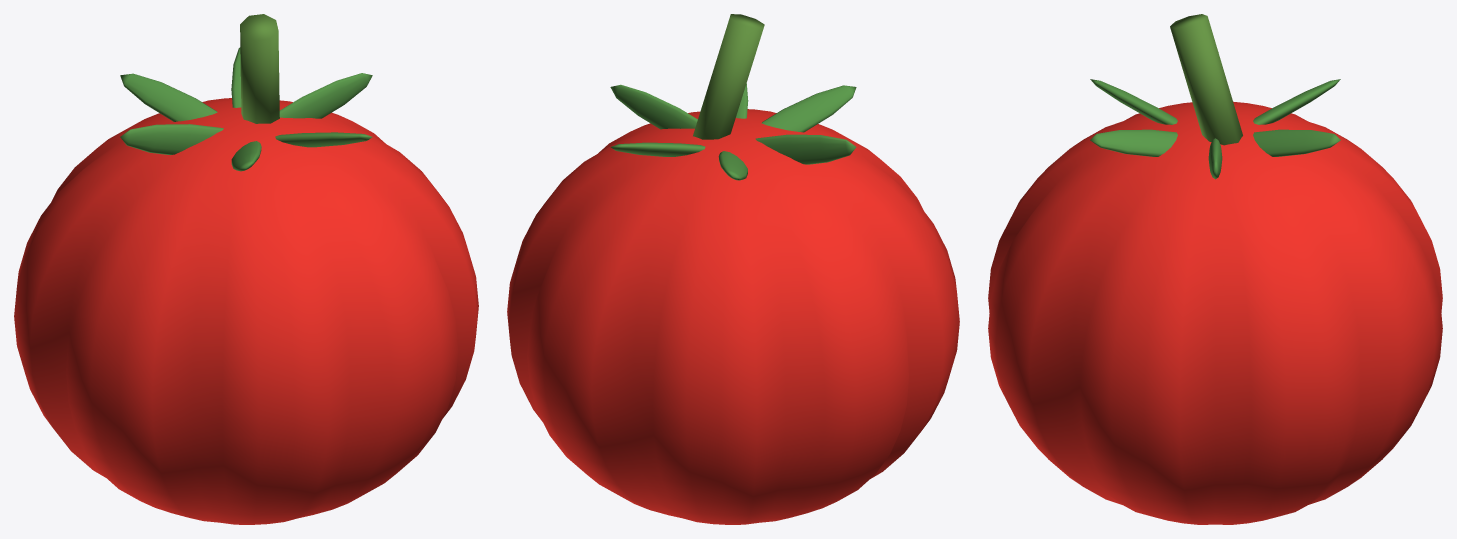
The model's file is tomato_lite_ripe.glb.
The picture shows the model from 3 angles, left to right: view 1: azimuth 30°, elevation 25°; view 2: azimuth 150°, elevation 25°; view 3: azimuth 270°, elevation 25°; orthographic projection. The views are drawn at different scales.
Parts seen in each view (by area): view 1: grooved_tomato_body, stem, sepal.002, sepal.003, sepal, sepal.005, sepal.004; view 2: grooved_tomato_body, stem, sepal.004, sepal.003, sepal, sepal.001, sepal.002; view 3: grooved_tomato_body, stem, sepal.005, sepal.001, sepal.002, sepal.004.
Boxes of the visible parts, x1,y1,x2,y2 form: grooved_tomato_body: (14, 98, 478, 524); stem: (240, 14, 279, 123); sepal.002: (120, 73, 217, 121); sepal.003: (120, 124, 223, 155); sepal: (279, 73, 372, 118); sepal.005: (275, 132, 372, 147); sepal.004: (231, 141, 261, 171); grooved_tomato_body: (507, 109, 959, 524); stem: (693, 14, 764, 139); sepal.004: (761, 85, 856, 132); sepal.003: (755, 134, 856, 164); sepal: (610, 84, 697, 129); sepal.001: (610, 142, 705, 156); sepal.002: (718, 151, 747, 180); grooved_tomato_body: (988, 101, 1442, 524); stem: (1170, 14, 1242, 145); sepal.005: (1090, 129, 1177, 156); sepal.001: (1253, 129, 1340, 156); sepal.002: (1253, 79, 1340, 124); sepal.004: (1090, 79, 1177, 124).
Size of the model in its own units: 1.97 by 2.32 by 1.97.
